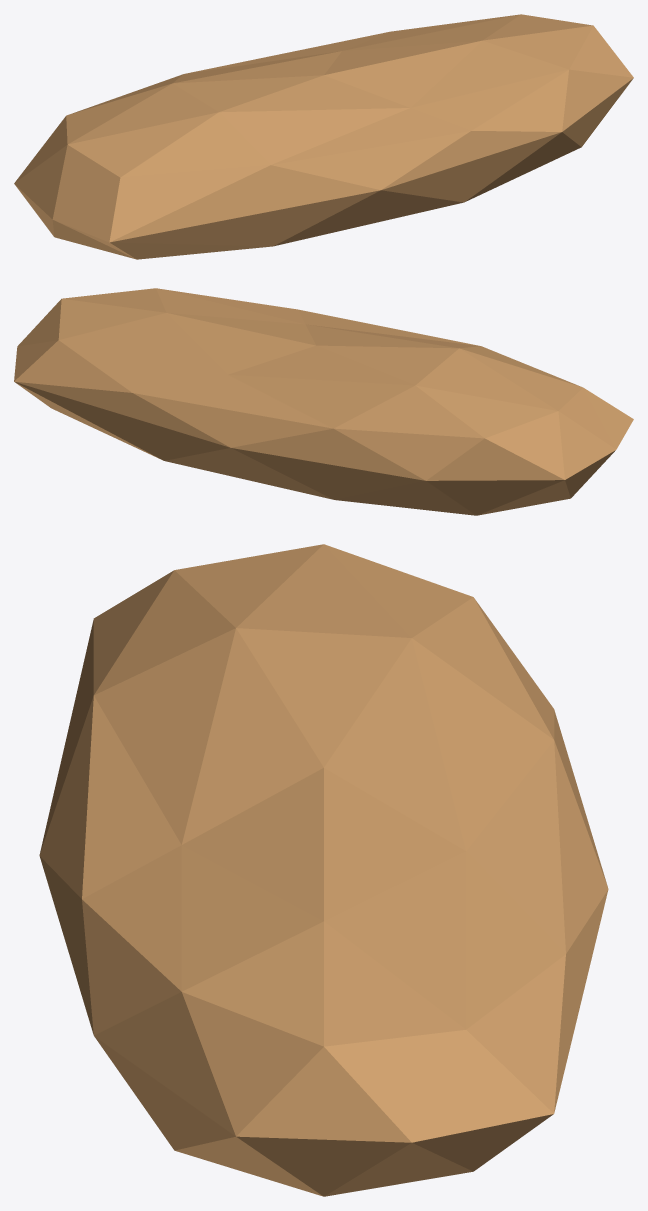
The model's file is Rock Orange Sm 003.fbx.
The picture shows the model from 3 angles, top to bottom: view 1: azimuth 30°, elevation 25°; view 2: azimuth 150°, elevation 25°; view 3: azimuth 270°, elevation 25°; orthographic projection. The views are drawn at different scales.
Parts seen in each view (by area): view 1: Rock 003.004; view 2: Rock 003.004; view 3: Rock 003.004.
Boxes of the visible parts, x1=… form: Rock 003.004: x1=14, y1=14, x2=633, y2=259; Rock 003.004: x1=14, y1=288, x2=633, y2=515; Rock 003.004: x1=39, y1=544, x2=608, y2=1196.
Bounding box in the file's own units: 116 × 23.49 × 51.53.
